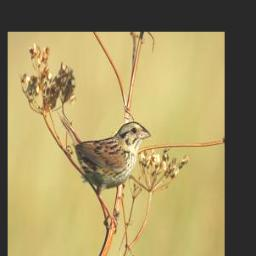Sparrow: (55, 109, 153, 234)
